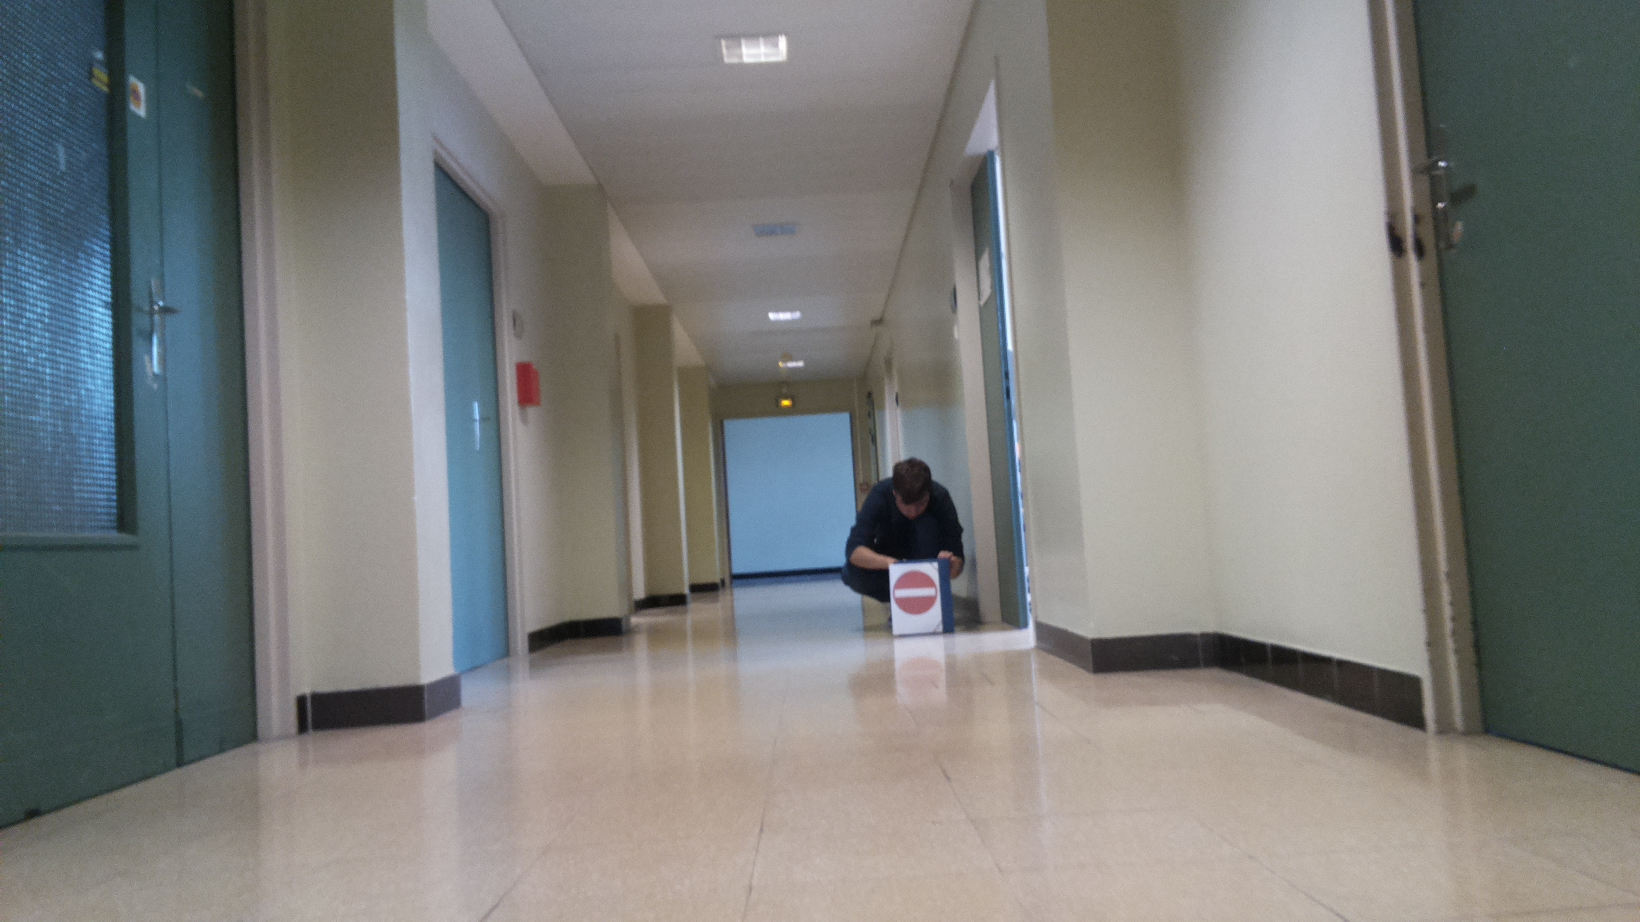prohibited: (893, 570, 939, 616)
